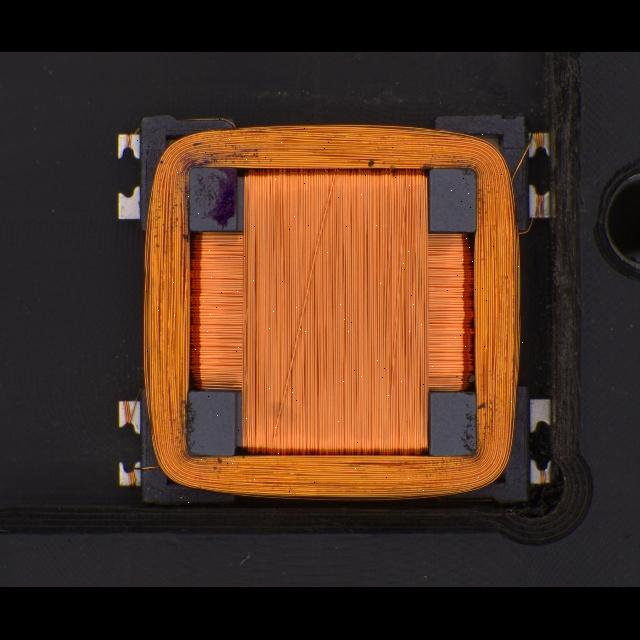Winding_Z: (136, 118, 523, 503)
